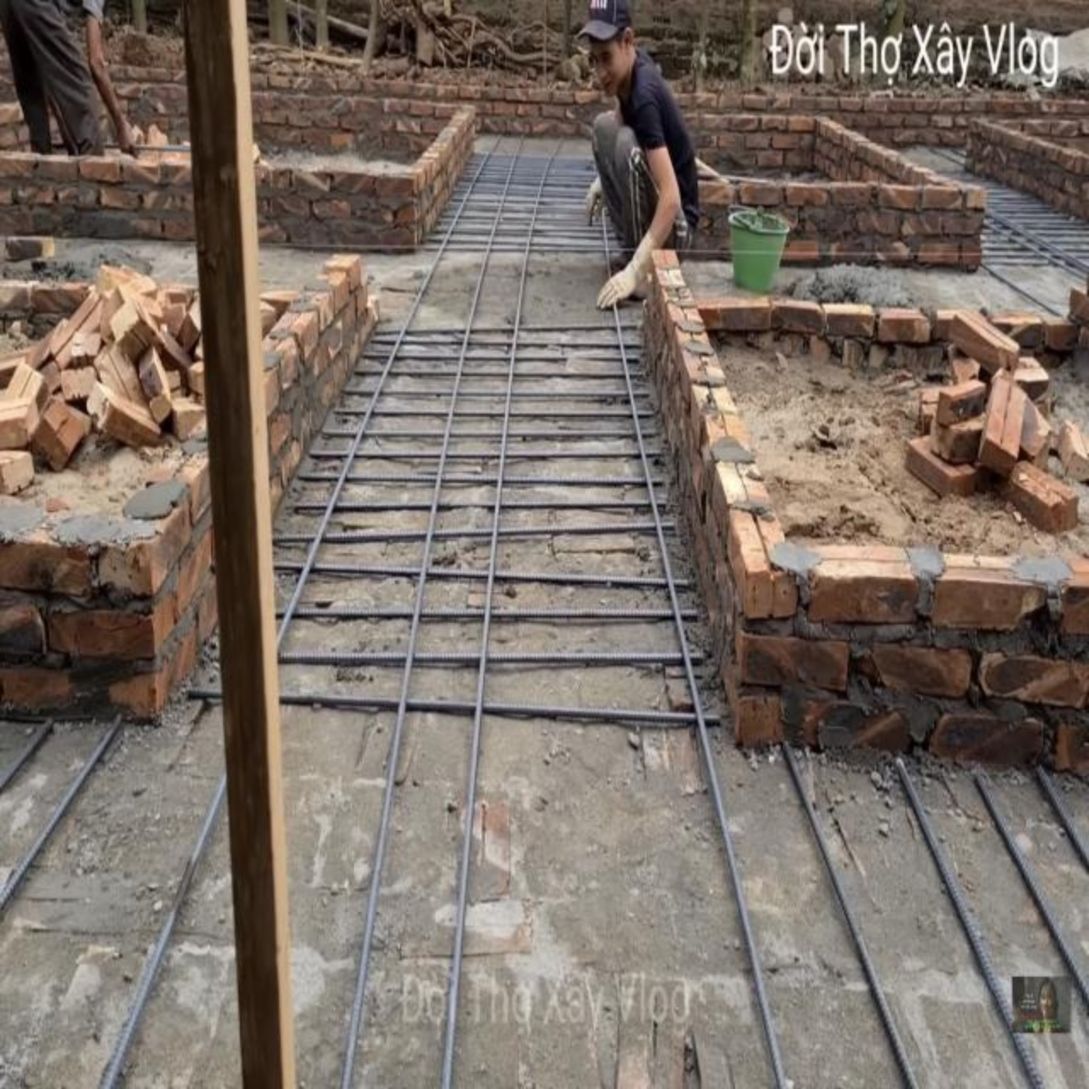no_helmet: (578, 0, 637, 99)
no_vest: (618, 57, 703, 219)
person: (577, 1, 703, 319)
